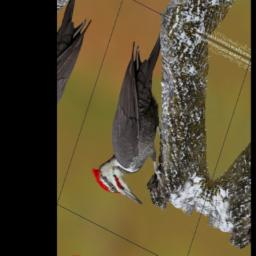Woodpecker: (87, 19, 205, 215)
